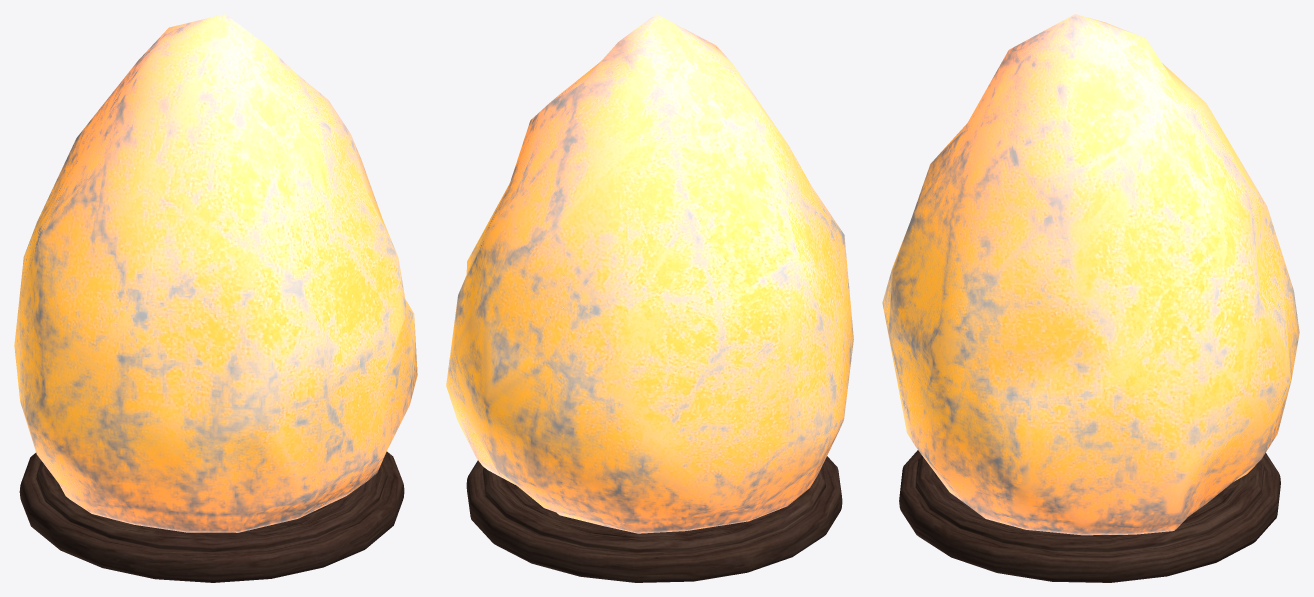
File: lamp.glb
The picture shows the model from 3 angles, left to right: view 1: azimuth 30°, elevation 25°; view 2: azimuth 150°, elevation 25°; view 3: azimuth 270°, elevation 25°; orthographic projection.
Parts seen in each view (by area): view 1: salt_rock_low, lamp_base_low; view 2: salt_rock_low, lamp_base_low; view 3: salt_rock_low, lamp_base_low.
Boxes of the visible parts, x1,y1,x2,y2 form: salt_rock_low: [14, 14, 417, 532]; lamp_base_low: [19, 451, 404, 582]; salt_rock_low: [446, 14, 853, 533]; lamp_base_low: [466, 456, 842, 582]; salt_rock_low: [882, 14, 1299, 535]; lamp_base_low: [899, 450, 1280, 582].
Bounding box in the file's own units: 0.154 × 0.2045 × 0.1567.
1 material, 1 textured.
